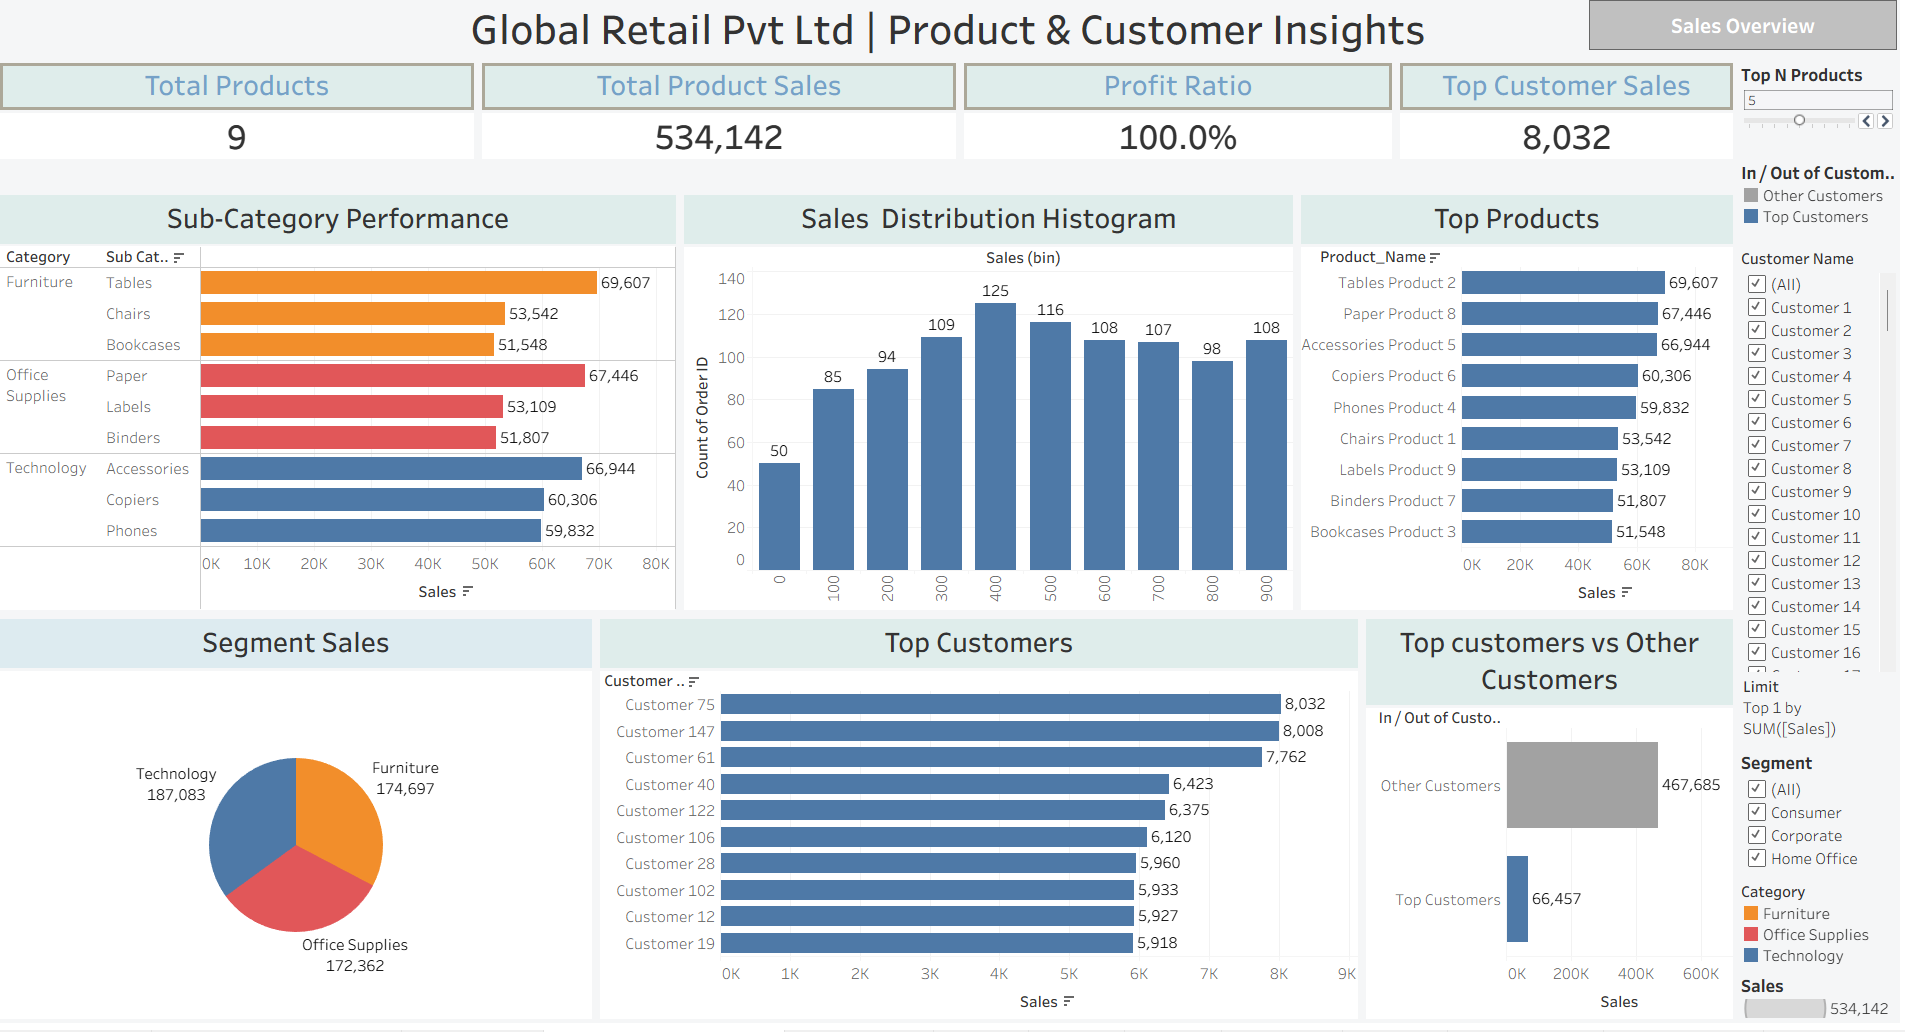

What the dashboard file says about the page in this screenshot:
{"tool":"tableau","page":{"name":"Product & Customer Insights","canvas":[1000,1000],"units":"permille","ordinal":0},"visuals":[{"type":"title","box":[4.8,9.4,990.3,74]},{"type":"dashboard-object","box":[834.2,11.8,160.5,69.3]},{"type":"worksheet","title":"Total Products","mark":"Automatic","box":[4.8,83.4,246.9,124.6]},{"type":"worksheet","title":"Total Product Sales","mark":"Automatic","box":[251.8,83.4,246.9,124.6]},{"type":"worksheet","title":"Profit Ratio","mark":"Automatic","box":[498.7,83.4,223.6,124.6]},{"type":"worksheet","title":"Top Customer Sales","mark":"Text","box":[722.2,83.4,174.6,124.6]},{"type":"parameter","param":"[Parameters].[Parameter 1342819150434306]","box":[896.8,83.4,98.4,115.2]},{"type":"legend","title":"Top customers vs Other Customers","param":"[federated.17eil131n0n49m1bcfd3j1uop5nj].[io:Customer Name Set:nk]","box":[896.8,198.6,98.4,102.2]},{"type":"worksheet","title":"Sub-Category Performance","mark":"Automatic","rows":["Category","Sub_Category"],"cols":["Sales"],"box":[4.8,208,350.2,398.4]},{"type":"worksheet","title":"Sales  Distribution Histogram","mark":"Automatic","rows":["Order_ID"],"cols":["Sales (bin)"],"box":[355.1,208,316.4,398.4]},{"type":"worksheet","title":"Top Products","mark":"Automatic","rows":["Product_Name"],"cols":["Sales"],"box":[671.5,208,225.3,398.4]},{"type":"filter","title":"Top Customer Sales","param":"[federated.17eil131n0n49m1bcfd3j1uop5nj].[none:Customer_Name:nk]","box":[896.8,300.8,98.4,365.5]},{"type":"worksheet","title":"Segment Sales","mark":"Pie","box":[4.8,606.4,307.6,384.2]},{"type":"worksheet","title":"Top Customers","mark":"Automatic","rows":["Customer_Name"],"cols":["Sales"],"box":[312.5,606.4,392.3,384.2]},{"type":"worksheet","title":"Top customers vs Other Customers","mark":"Automatic","rows":["Customer Name Set"],"cols":["Sales"],"box":[704.8,606.4,192.1,384.2]},{"type":"filter","title":"Segment Sales","param":"[federated.17eil131n0n49m1bcfd3j1uop5nj].[none:Segment:nk]","box":[896.8,666.3,98.4,152.8]},{"type":"legend","title":"Segment Sales","param":"[federated.17eil131n0n49m1bcfd3j1uop5nj].[none:Category:nk]","box":[896.8,819,98.4,109.3]},{"type":"legend","title":"Segment Sales","param":"[federated.17eil131n0n49m1bcfd3j1uop5nj].[sum:Sales:qk]","box":[896.8,928.3,98.4,62.3]}]}

Visuals, with their boxes on the dashboard's canvas, which has no fixed pixel size, in thousandths of its width and height (x1, y1, x2, y2). These are canvas units, not pixel positions in the 1905x1032 screenshot, which may show the page scaled, cropped or inside an application window:
title: (x1=5, y1=9, x2=995, y2=83)
dashboard-object: (x1=834, y1=12, x2=995, y2=81)
"Total Products" worksheet: (x1=5, y1=83, x2=252, y2=208)
"Total Product Sales" worksheet: (x1=252, y1=83, x2=499, y2=208)
"Profit Ratio" worksheet: (x1=499, y1=83, x2=722, y2=208)
"Top Customer Sales" worksheet (Text marks): (x1=722, y1=83, x2=897, y2=208)
parameter: (x1=897, y1=83, x2=995, y2=199)
"Top customers vs Other Customers" legend: (x1=897, y1=199, x2=995, y2=301)
"Sub-Category Performance" worksheet: (x1=5, y1=208, x2=355, y2=606)
"Sales  Distribution Histogram" worksheet: (x1=355, y1=208, x2=672, y2=606)
"Top Products" worksheet: (x1=672, y1=208, x2=897, y2=606)
"Top Customer Sales" filter: (x1=897, y1=301, x2=995, y2=666)
"Segment Sales" worksheet (Pie marks): (x1=5, y1=606, x2=312, y2=991)
"Top Customers" worksheet: (x1=312, y1=606, x2=705, y2=991)
"Top customers vs Other Customers" worksheet: (x1=705, y1=606, x2=897, y2=991)
"Segment Sales" filter: (x1=897, y1=666, x2=995, y2=819)
"Segment Sales" legend: (x1=897, y1=819, x2=995, y2=928)
"Segment Sales" legend: (x1=897, y1=928, x2=995, y2=991)
